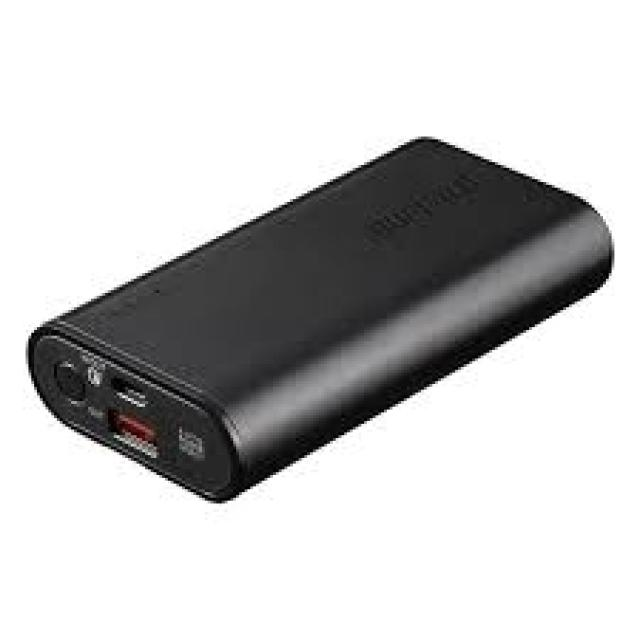battery: (28, 139, 609, 501)
